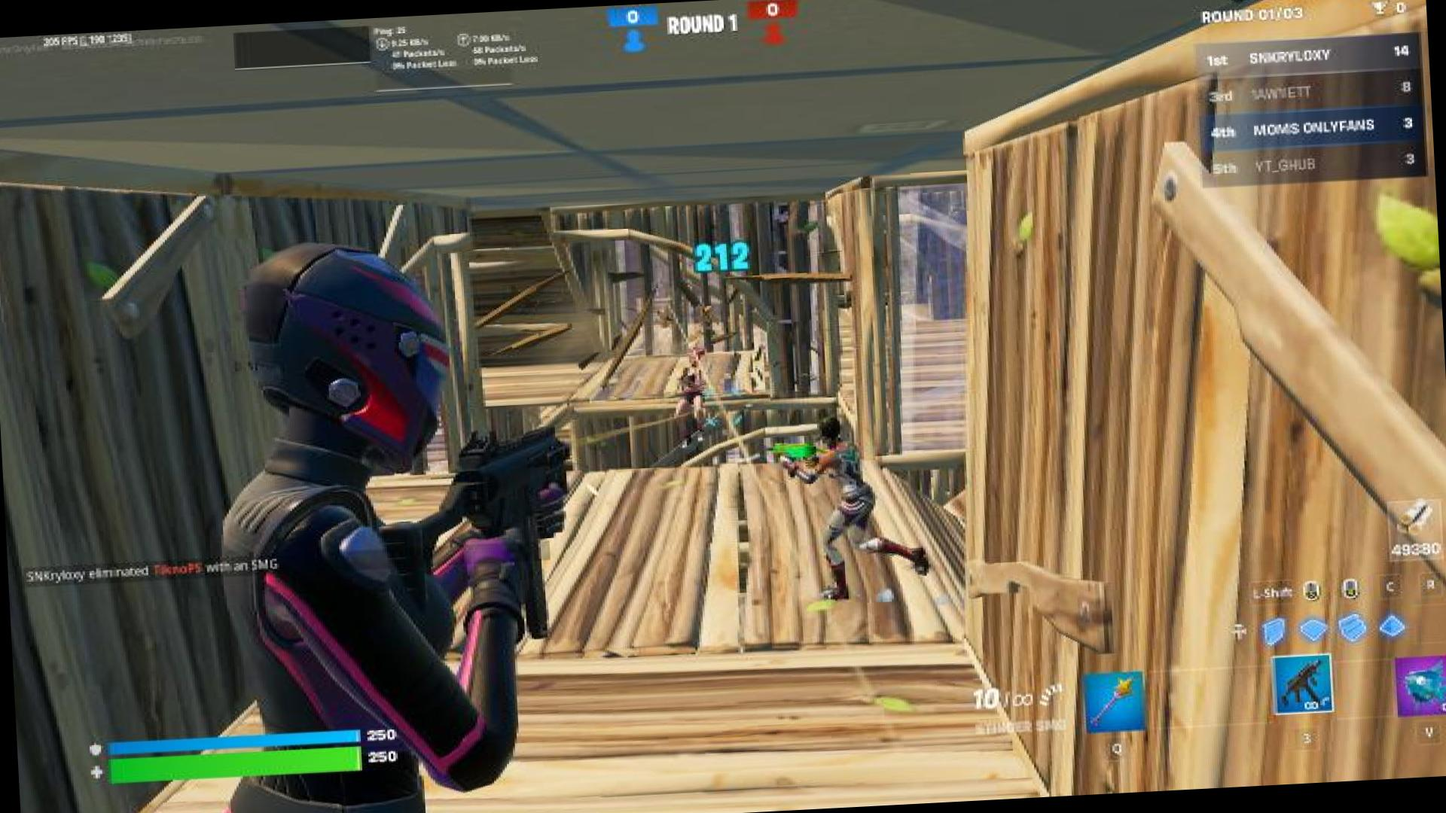player: (787, 400, 929, 605), (659, 348, 721, 450)
